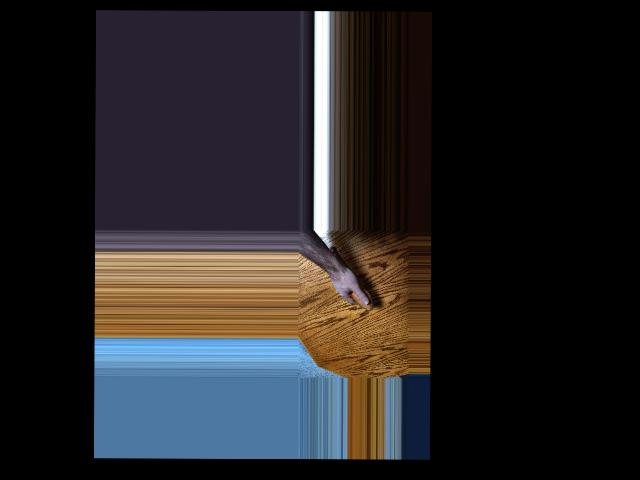sweet_potato: (330, 245, 375, 312)
